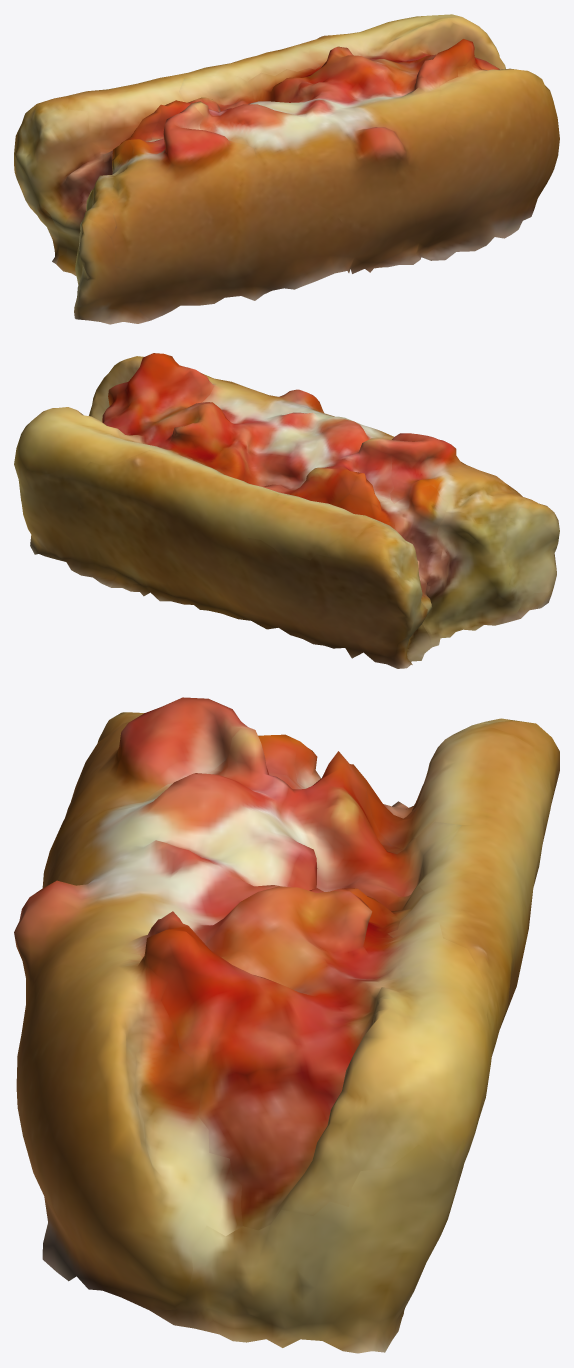
The model's file is Hotdog.glb.
The picture shows the model from 3 angles, top to bottom: view 1: azimuth 30°, elevation 25°; view 2: azimuth 150°, elevation 25°; view 3: azimuth 270°, elevation 25°; orthographic projection. The views are drawn at different scales.
Visible parts, largest first — view 1: ObjectCapture.005; view 2: ObjectCapture.005; view 3: ObjectCapture.005.
Boxes of the visible parts, x1=… form: ObjectCapture.005: x1=14, y1=14, x2=559, y2=324; ObjectCapture.005: x1=14, y1=353, x2=559, y2=668; ObjectCapture.005: x1=14, y1=697, x2=559, y2=1353.
Size of the model in its own units: 0.6172 by 0.2436 by 0.3151.
Materials: 1 (1 with a texture image).
